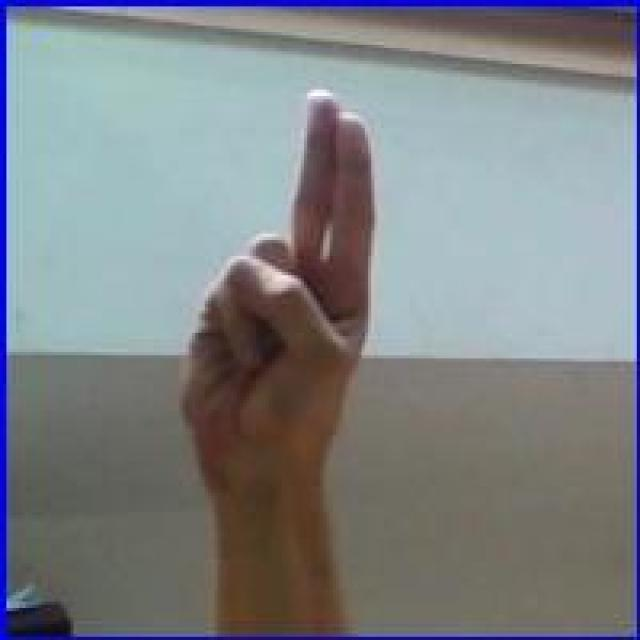U: (184, 83, 376, 496)
